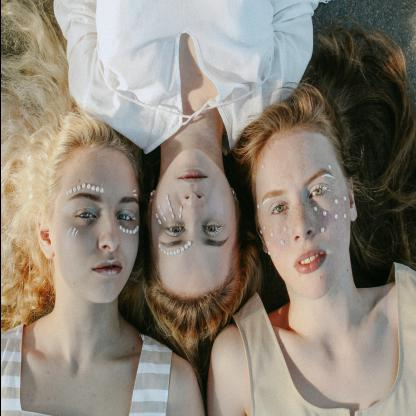Eye: (306, 184, 330, 202), (72, 208, 98, 224), (268, 202, 290, 218), (201, 221, 223, 236), (162, 223, 184, 237), (115, 209, 136, 223)
Mouth: (292, 247, 326, 274), (90, 260, 122, 276), (176, 168, 207, 184)
Nose: (291, 199, 315, 242), (181, 192, 205, 231), (97, 211, 119, 253)
